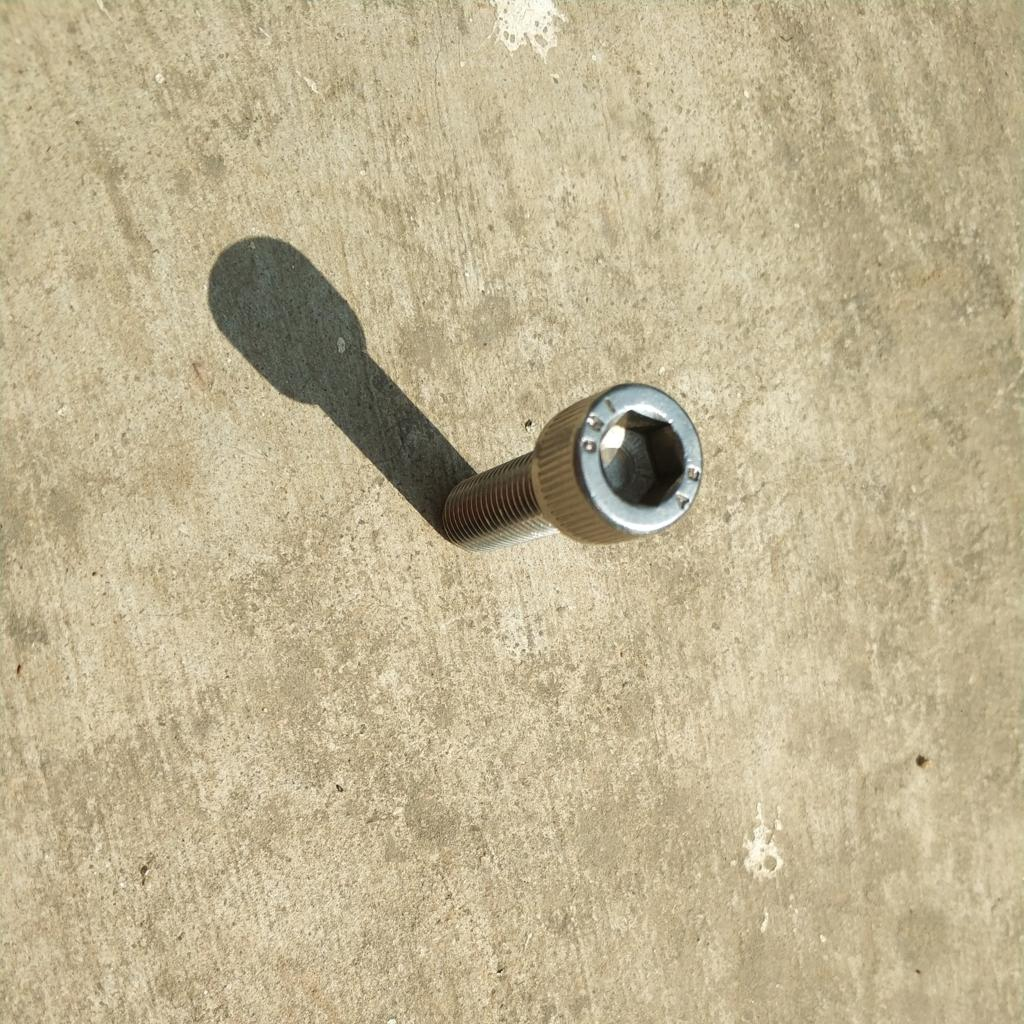screwtype1silver: (430, 374, 709, 566)
